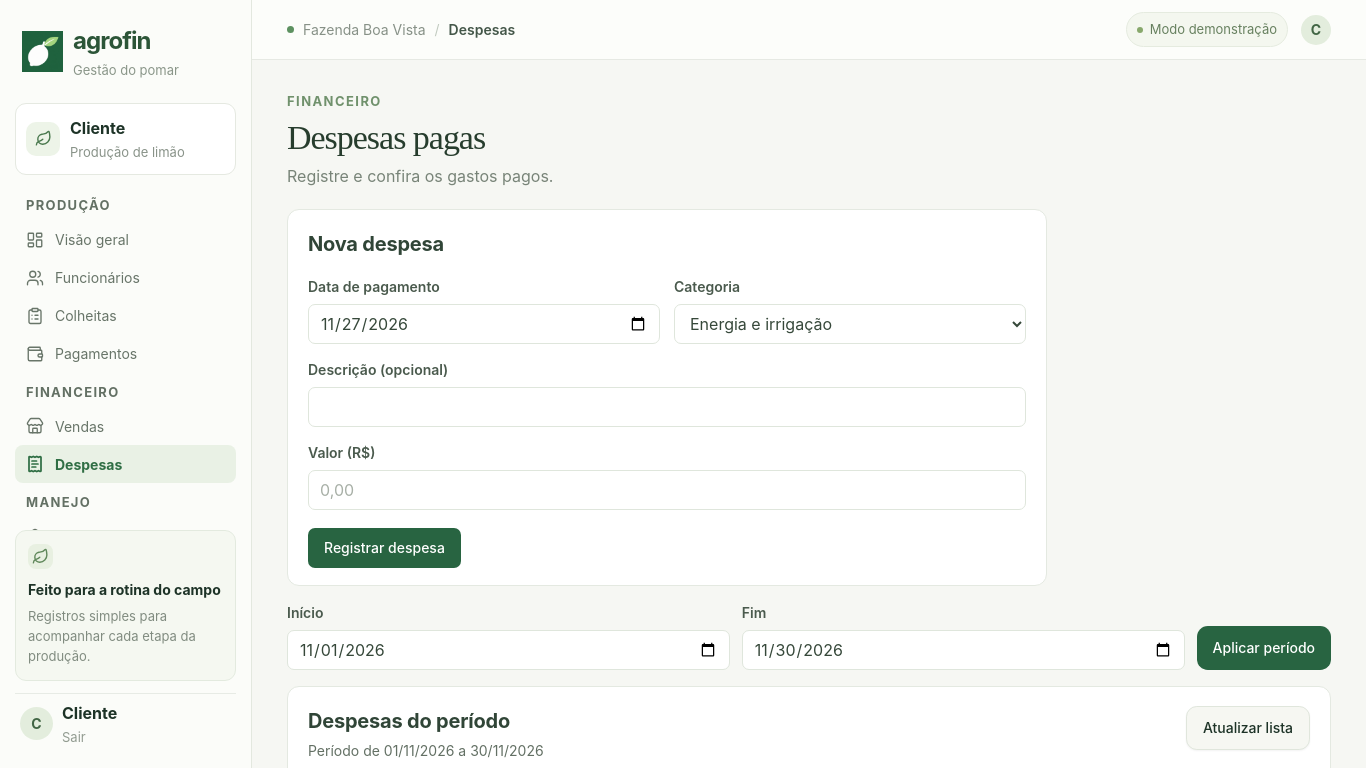
Test: registra, edita e exclui despesas, atualizando a lista e o relatório da conta
The width and height of the screenshot is (1366, 768).
Step 1. Type "123,45" into the field labelled "Valor (R$)" → (667, 490), box [308,470,1026,510]
Step 2. Click the button "Registrar despesa" → (384, 548), box [308,528,461,568]
(page scrolled)
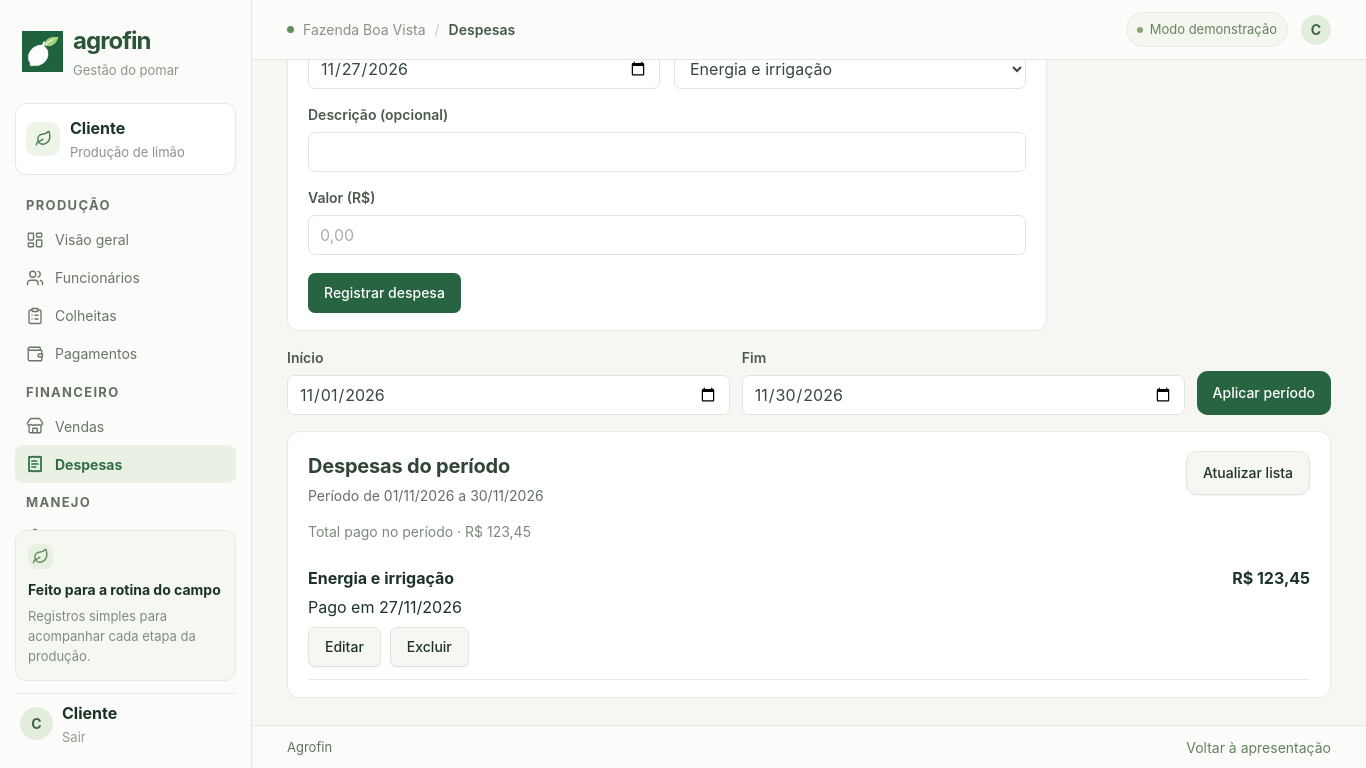
Now the text "Total pago no período · R$ 123,45" is shown, box [308,524,531,540]
Now the field labelled "Valor (R$)" is empty, box [308,215,1026,255]
Step 3. Click the button "Editar" → (344, 648), box [308,628,381,668]
(page scrolled)
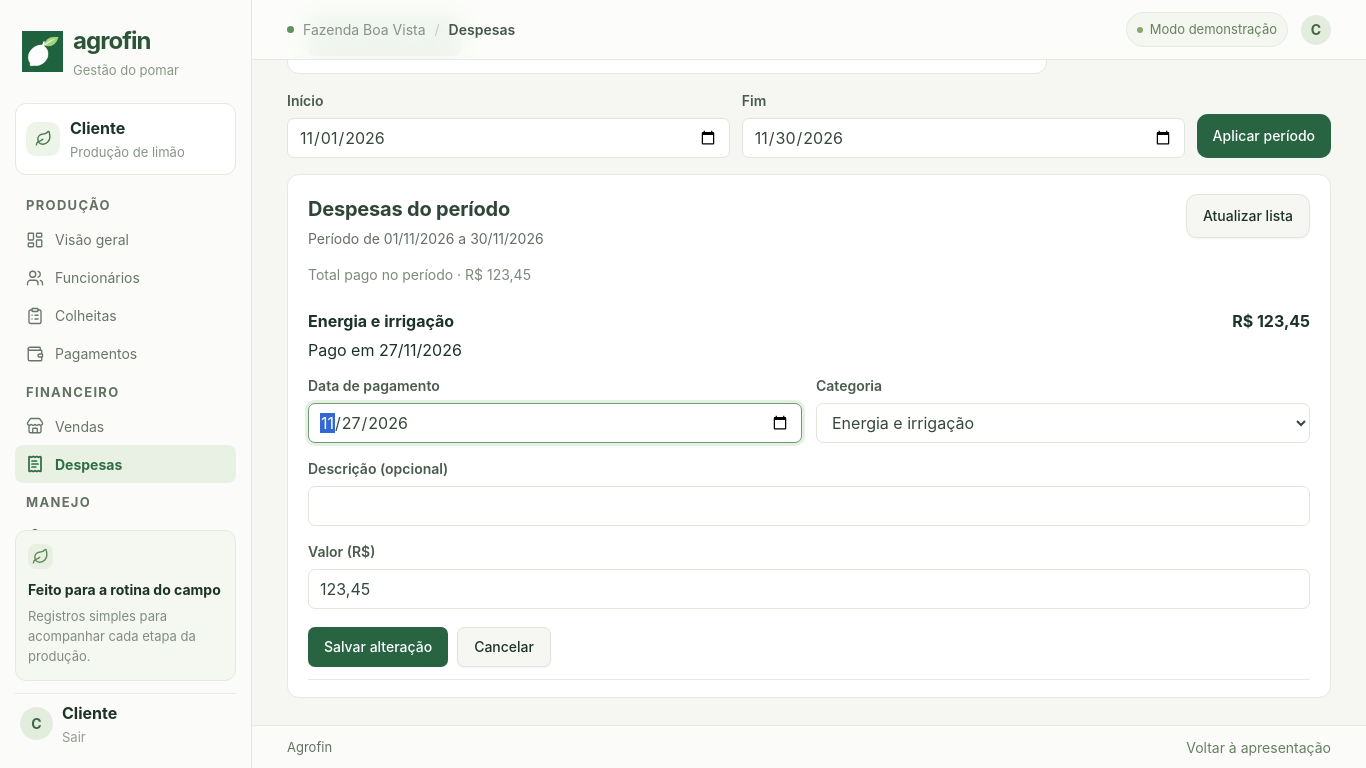
Now the field labelled "Valor (R$)" holds "123,45", box [308,570,1310,610]
Step 4. Type "Conta corrigida" into the field labelled "Descrição (opcional)" → (809, 506), box [308,486,1310,526]
Step 5. Replace the text in the field labelled "Valor (R$)" with "52,90" → (809, 590), box [308,570,1310,610]
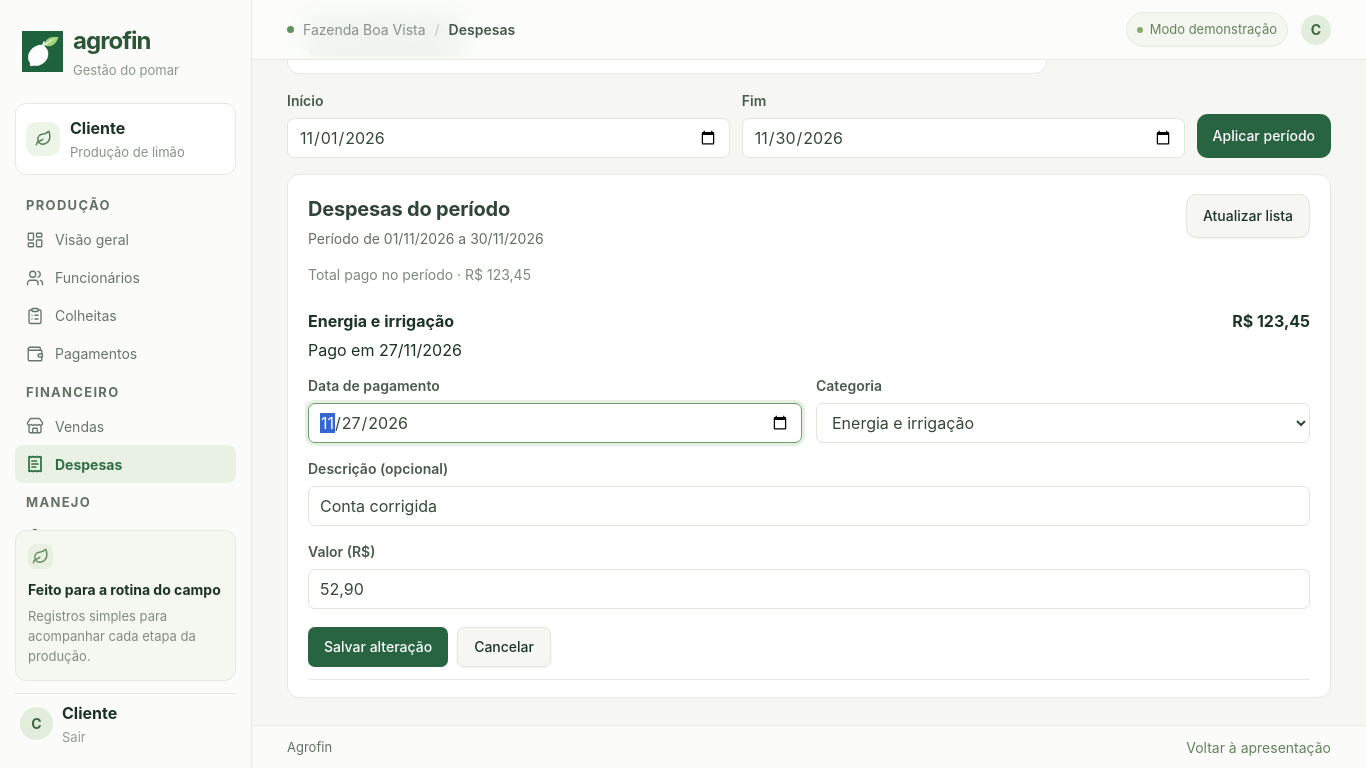
Step 6. Click the button "Salvar alteração" → (378, 648), box [308,628,448,668]
(page scrolled)
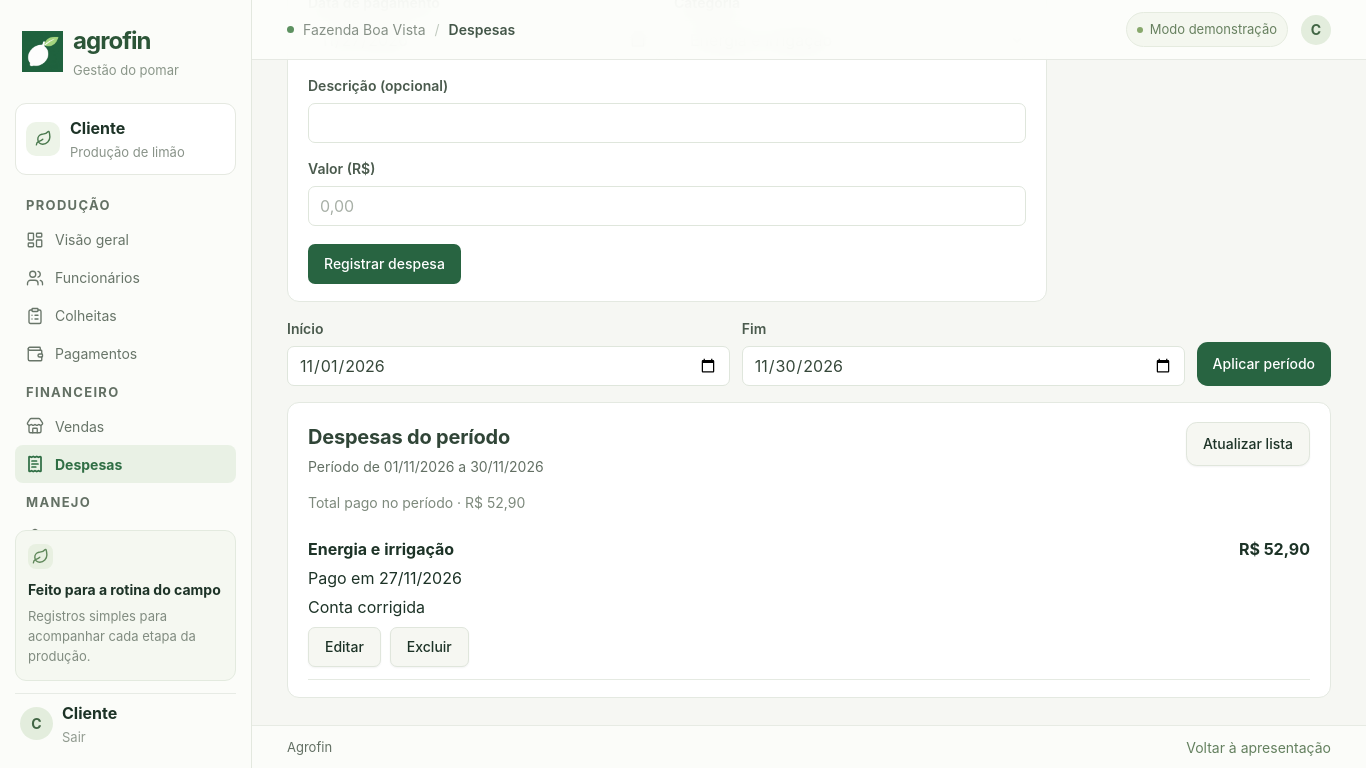
Now the text "Conta corrigida" is shown, box [308,598,425,618]
Now the text "Total pago no período · R$ 52,90" is shown, box [308,494,525,512]
Step 7. Click the button "Excluir" → (429, 648), box [390,628,469,668]
(page scrolled)
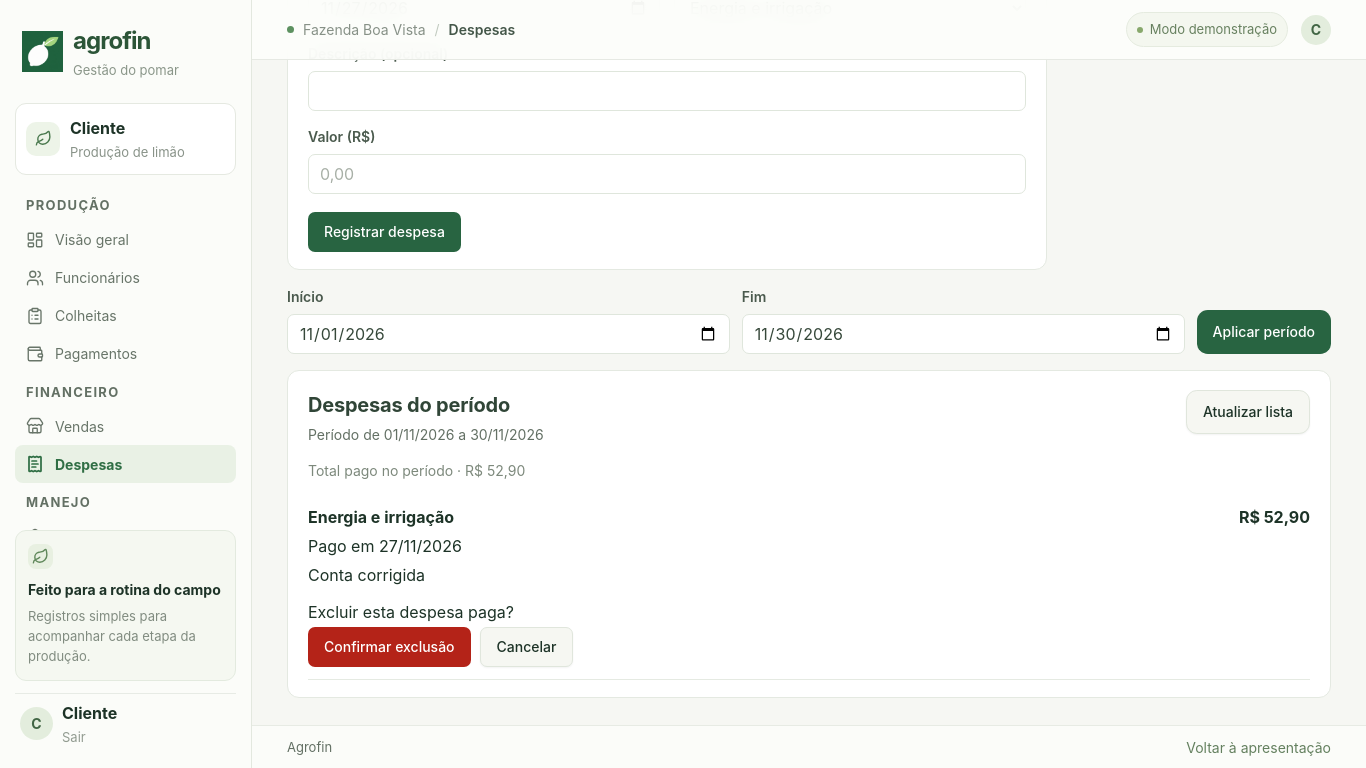
Step 8. Click the button "Confirmar exclusão" → (389, 648), box [308,628,470,668]
(page scrolled)
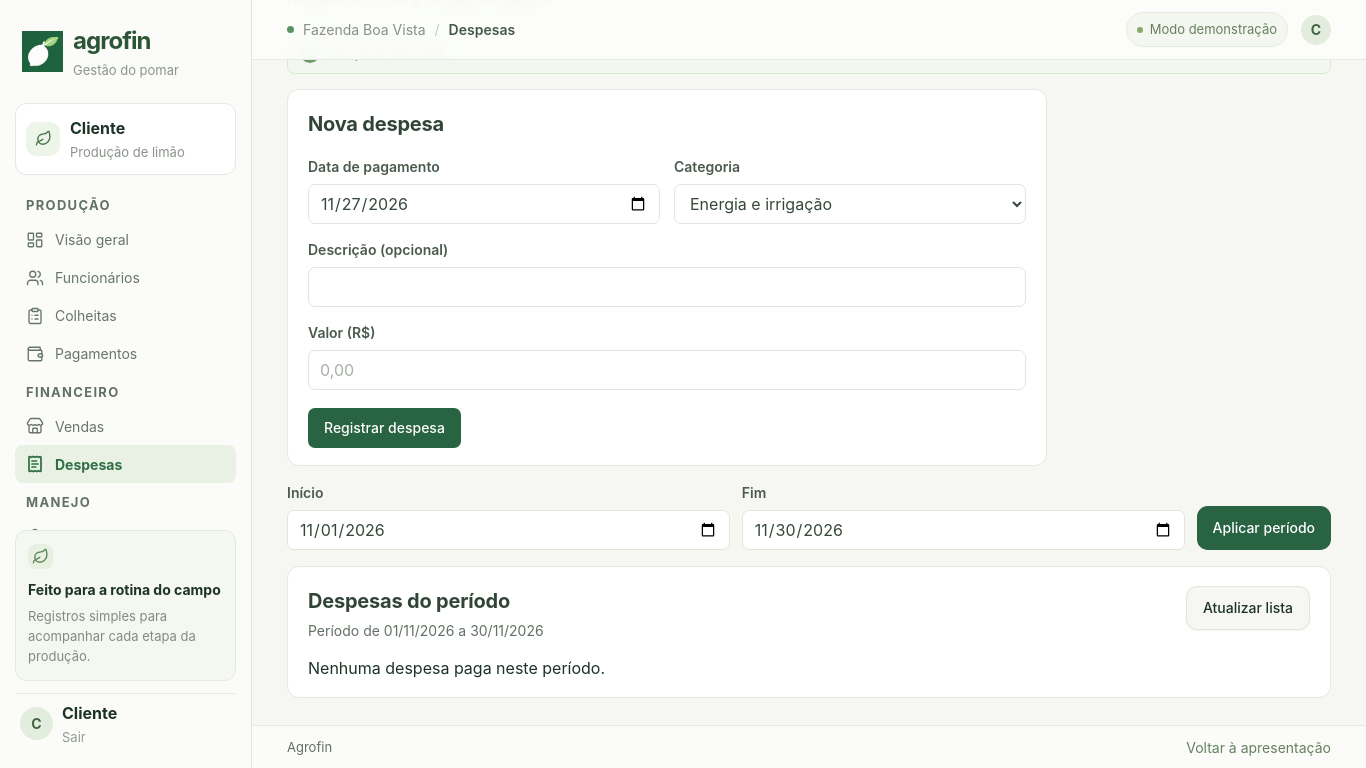
Now the text "Despesa excluída." is shown, box [287,32,1331,74]
Now the text "Nenhuma despesa paga neste período." is shown, box [308,658,605,678]
